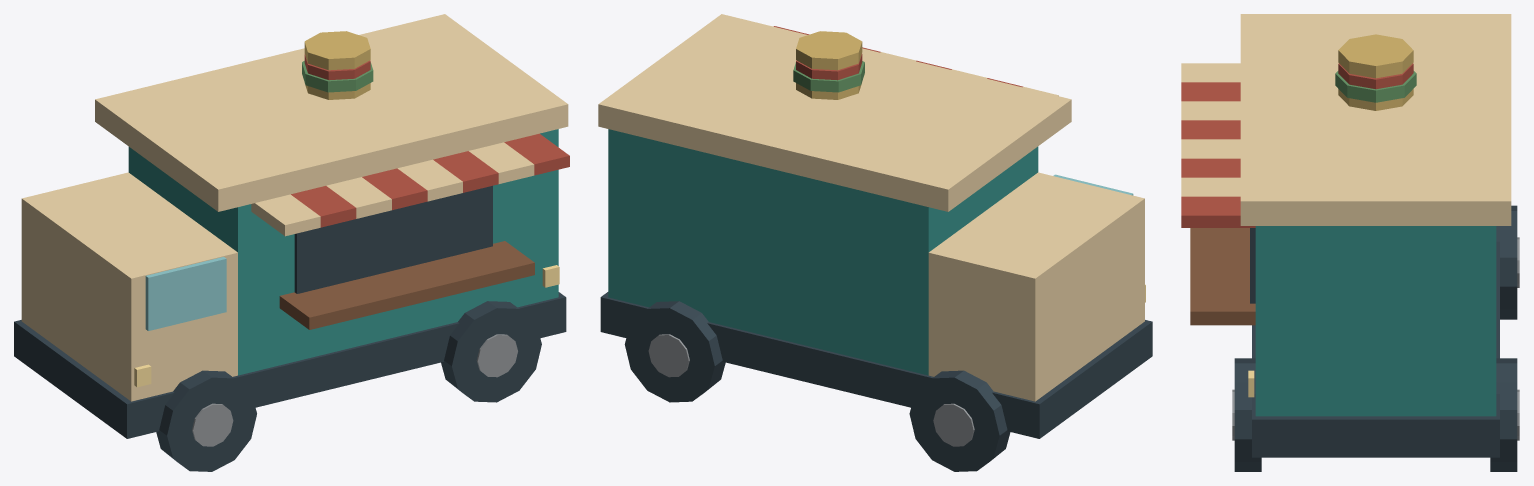
Rendered from food_truck.glb.
3 renders of one model, left to right at view 1: azimuth 30°, elevation 25°; view 2: azimuth 150°, elevation 25°; view 3: azimuth 270°, elevation 25°, orthographic. The views are drawn at different scales.
Visible parts, largest first — view 1: roof, cab, kitchen, chassis, service_window, counter, tire.002, tire, windshield, burger_emblem.003, awning, awning.006 (+10 smaller); view 2: kitchen, roof, cab, chassis, tire.001, tire.003, burger_emblem.003, hub.001, hub.003, burger_emblem.001, burger_emblem.002; view 3: roof, kitchen, chassis, counter, burger_emblem.003, tire.003, tire.002, awning.007, tire.001, burger_emblem.001, awning, awning.001 (+8 smaller).
Part boxes in pixels (x1,y1,x2,y2): roof: (95, 14, 568, 211); cab: (21, 172, 237, 401); kitchen: (128, 129, 558, 375); chassis: (14, 292, 566, 438); service_window: (294, 185, 492, 293); counter: (279, 241, 534, 329); tire.002: (441, 301, 541, 402); tire: (156, 370, 256, 471); windshield: (145, 257, 226, 330); burger_emblem.003: (304, 31, 370, 70); awning: (251, 194, 320, 236); awning.006: (469, 142, 534, 183); kitchen: (608, 129, 1038, 375); roof: (598, 14, 1071, 211); cab: (928, 172, 1144, 401); chassis: (600, 292, 1152, 438); tire.001: (909, 370, 1010, 471); tire.003: (624, 301, 725, 402); burger_emblem.003: (796, 31, 862, 70); hub.001: (933, 403, 974, 446); hub.003: (648, 334, 689, 377); burger_emblem.001: (793, 61, 864, 92); burger_emblem.002: (796, 54, 862, 80); roof: (1240, 14, 1511, 225); kitchen: (1255, 226, 1496, 416); chassis: (1252, 241, 1499, 457); counter: (1190, 228, 1255, 325); burger_emblem.003: (1338, 34, 1413, 78); tire.003: (1490, 358, 1517, 471); tire.002: (1234, 358, 1261, 471); awning.007: (1181, 196, 1255, 227); tire.001: (1496, 205, 1517, 319); burger_emblem.001: (1335, 71, 1416, 102); awning: (1181, 63, 1240, 82); awning.001: (1181, 82, 1240, 101).
Bounding box in the file's own units: 3.7 × 2.69 × 2.25.
